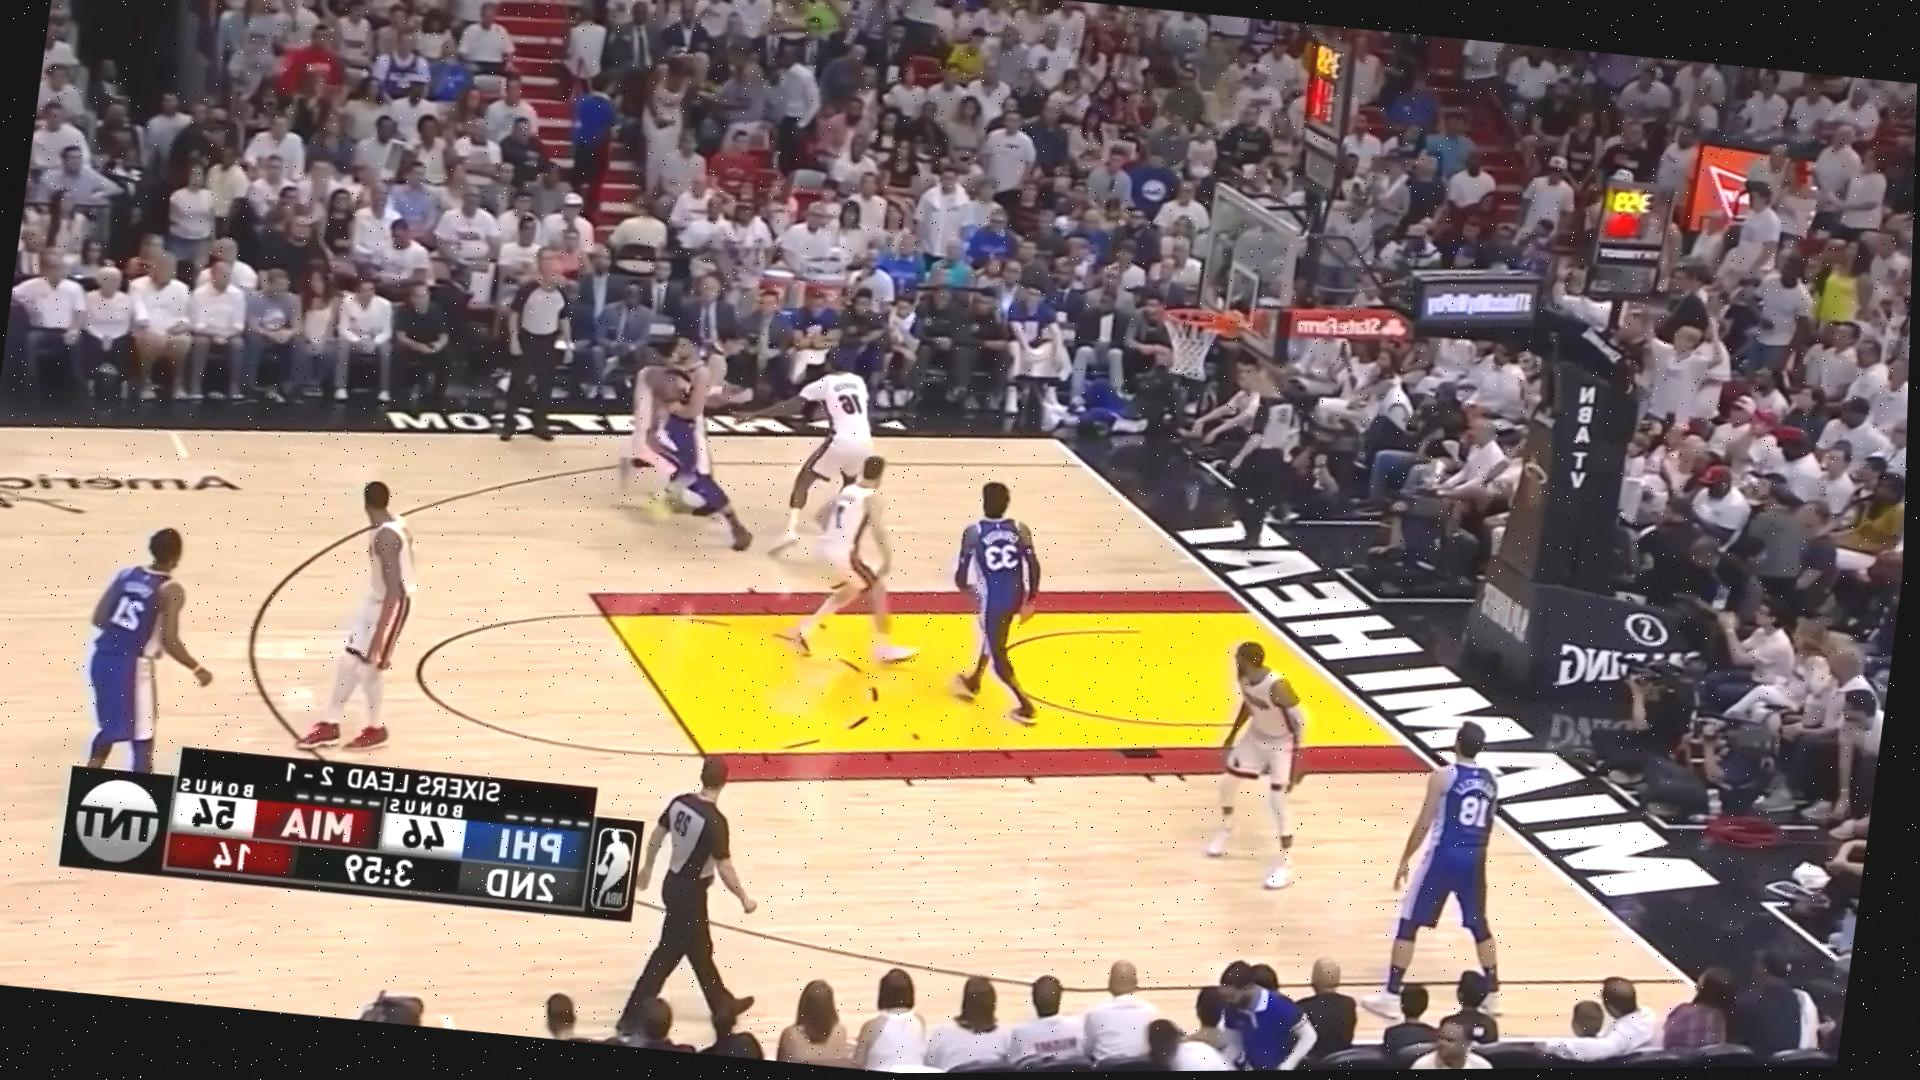foul: (601, 311, 754, 547)
